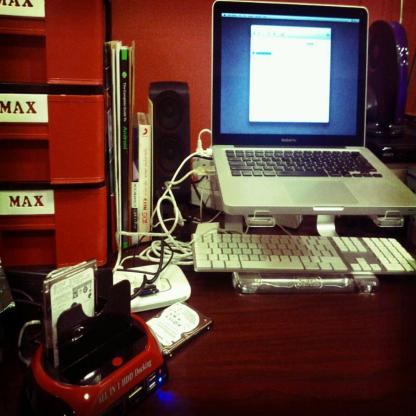board: (204, 9, 403, 240)
